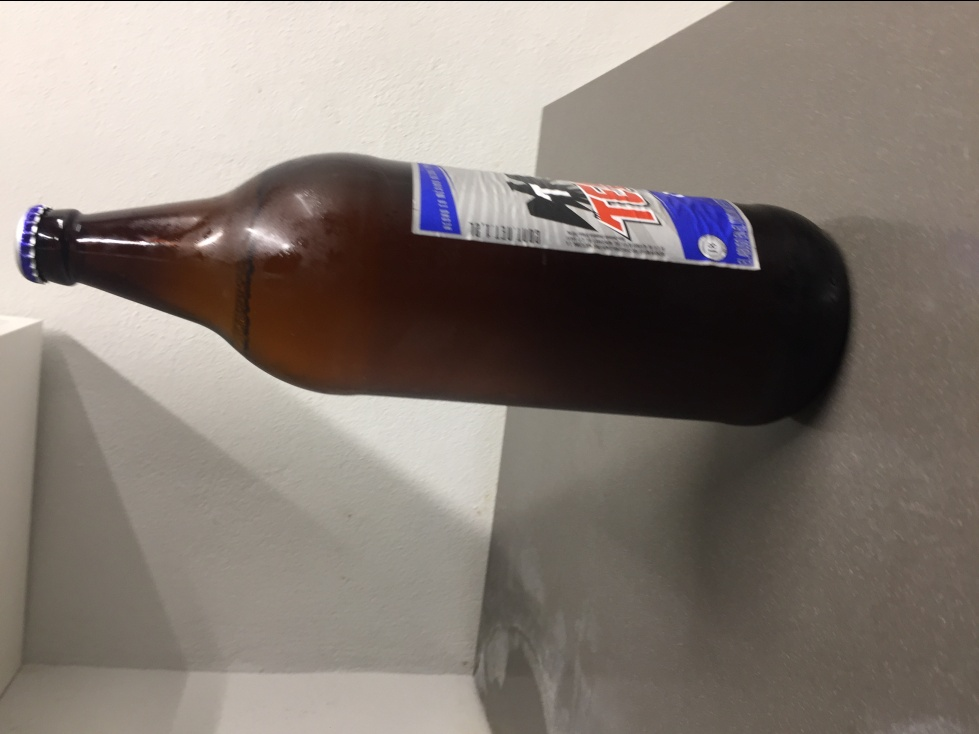tecateC: (21, 149, 846, 428)
